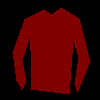abbigliamento_uomo: (12, 7, 90, 94)
